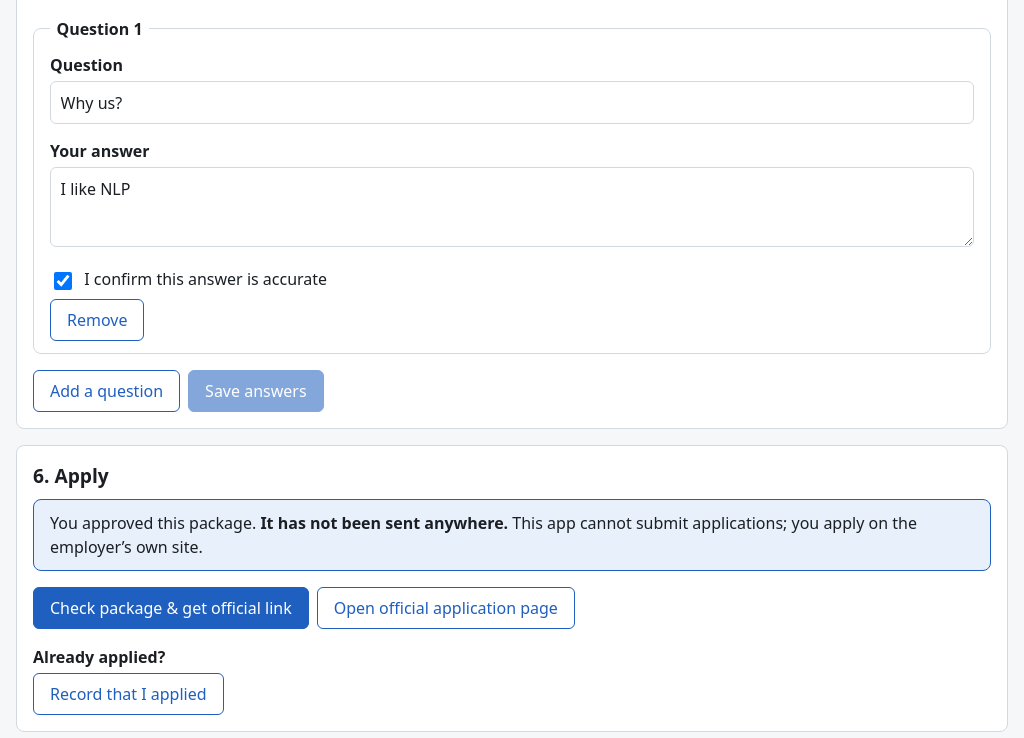
it: application review › a submit refused because the package changed tells the user to re-approve
(page scrolled)
Click the button "Check package & get official link" at [171, 608], box [33,587,309,629]
(page scrolled)
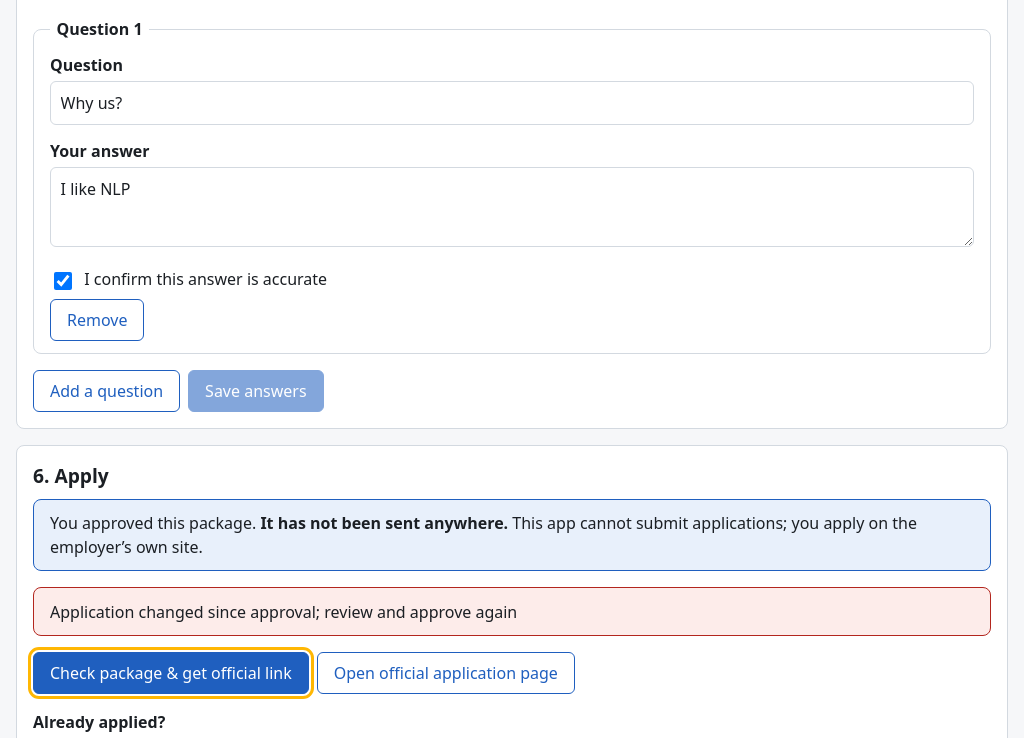
expect the text "Application changed since approval; review and approve again" is shown: met, box [33,587,991,636]
